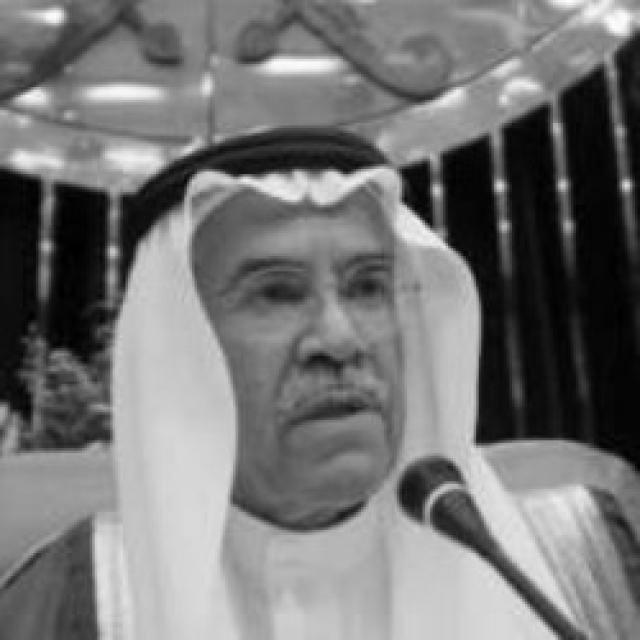real: (192, 181, 410, 528), (223, 249, 407, 316)
